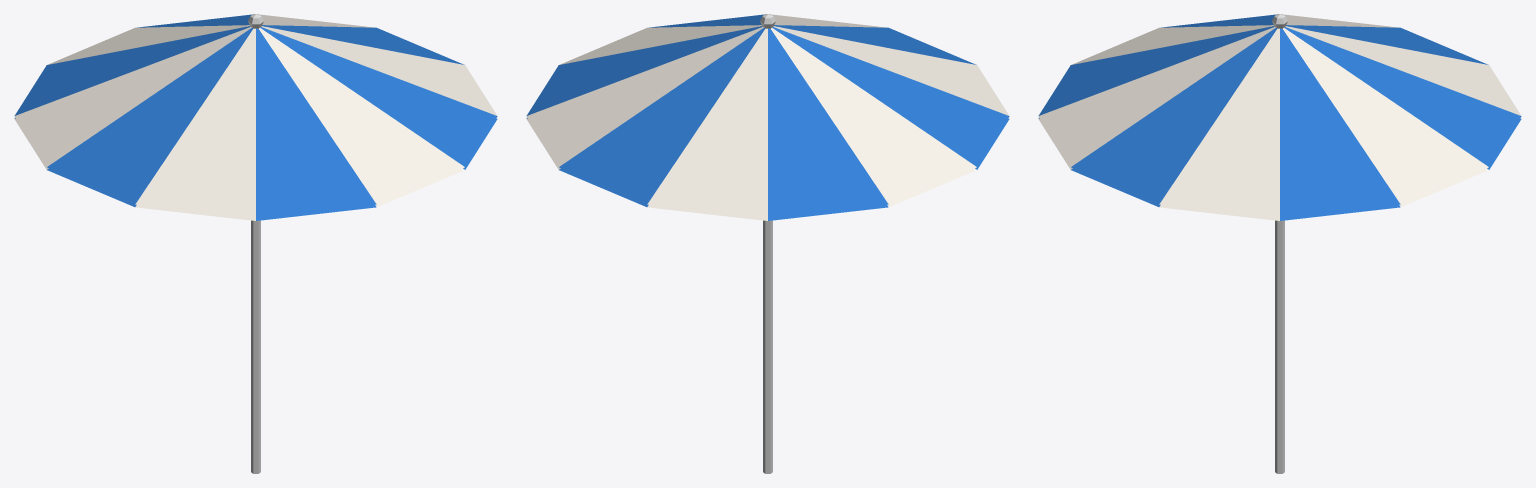
File: Prop_Umbrella_Blue.fbx
The picture shows the model from 3 angles, left to right: view 1: azimuth 30°, elevation 25°; view 2: azimuth 150°, elevation 25°; view 3: azimuth 270°, elevation 25°; orthographic projection.
Visible parts, largest first — view 1: Prop_Umbrella_Blue.001; view 2: Prop_Umbrella_Blue.001; view 3: Prop_Umbrella_Blue.001.
Boxes of the visible parts, x1=… form: Prop_Umbrella_Blue.001: x1=14, y1=14, x2=497, y2=473; Prop_Umbrella_Blue.001: x1=526, y1=14, x2=1009, y2=473; Prop_Umbrella_Blue.001: x1=1038, y1=14, x2=1521, y2=473.
Size of the model in its own units: 2.4 by 2.51 by 2.4.
